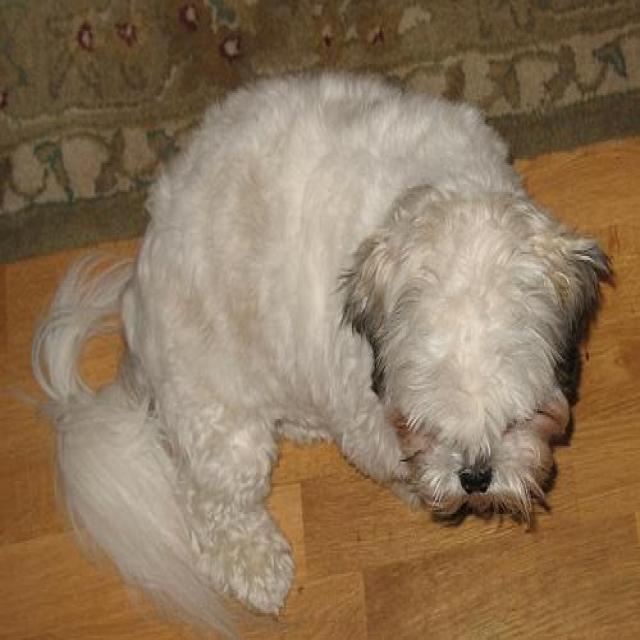shih_tzu: (30, 66, 616, 638)
